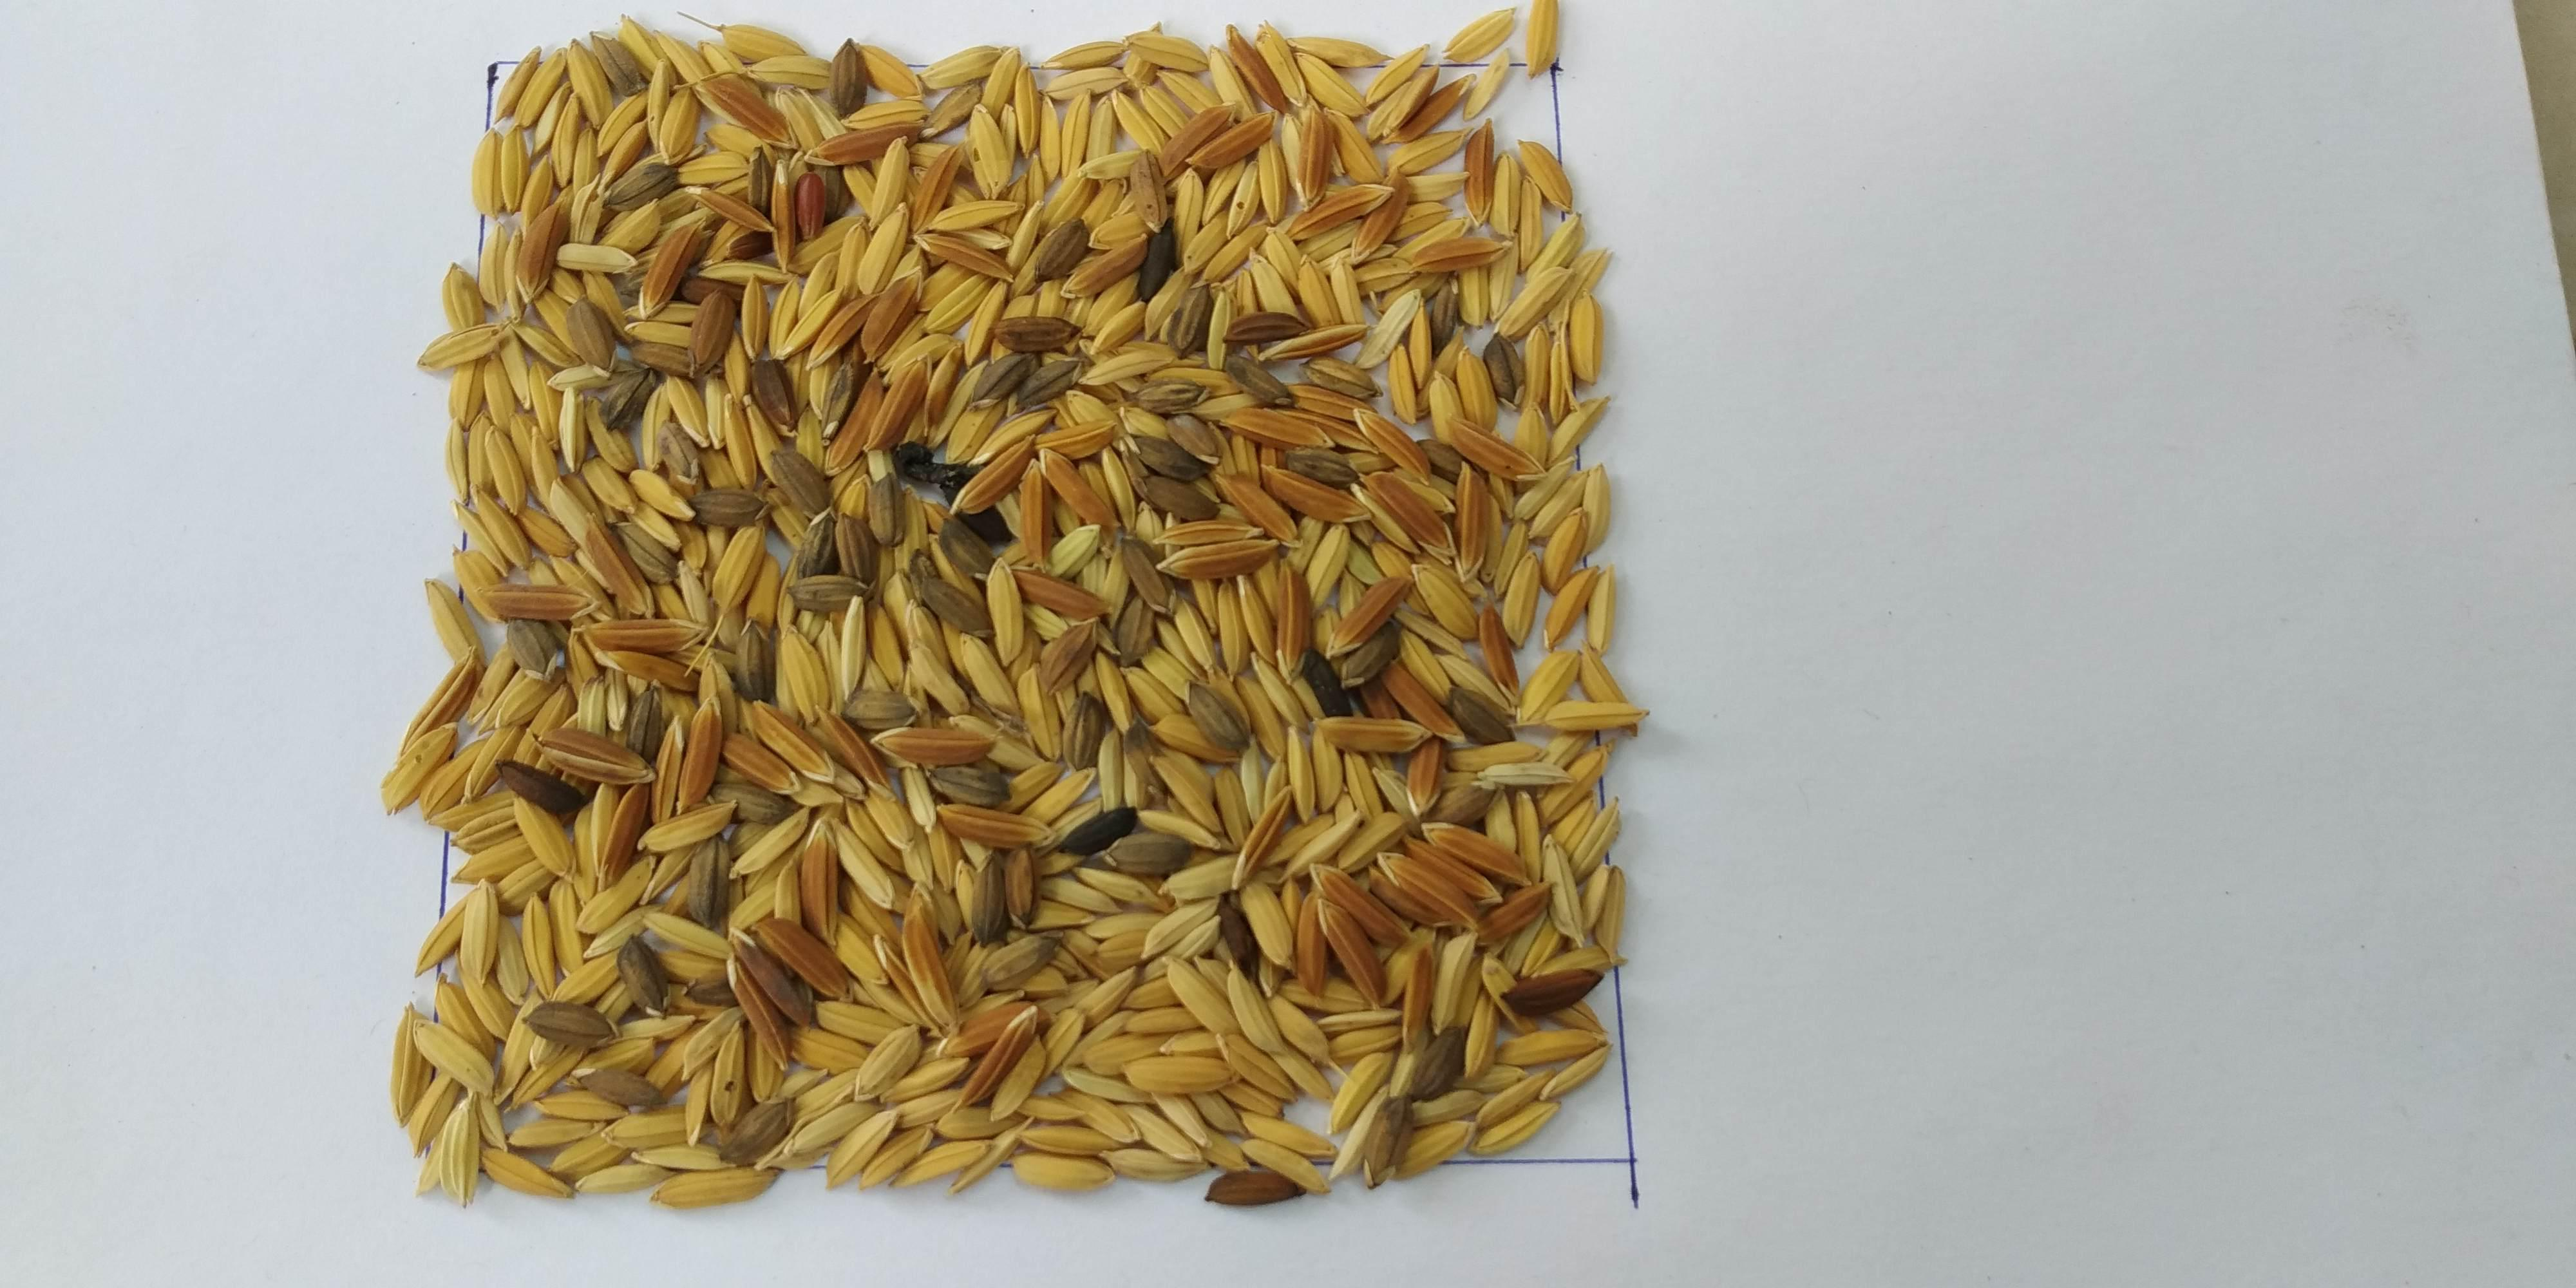impure: (498, 79, 1577, 1138)
